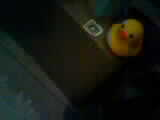duck: (101, 14, 150, 64)
